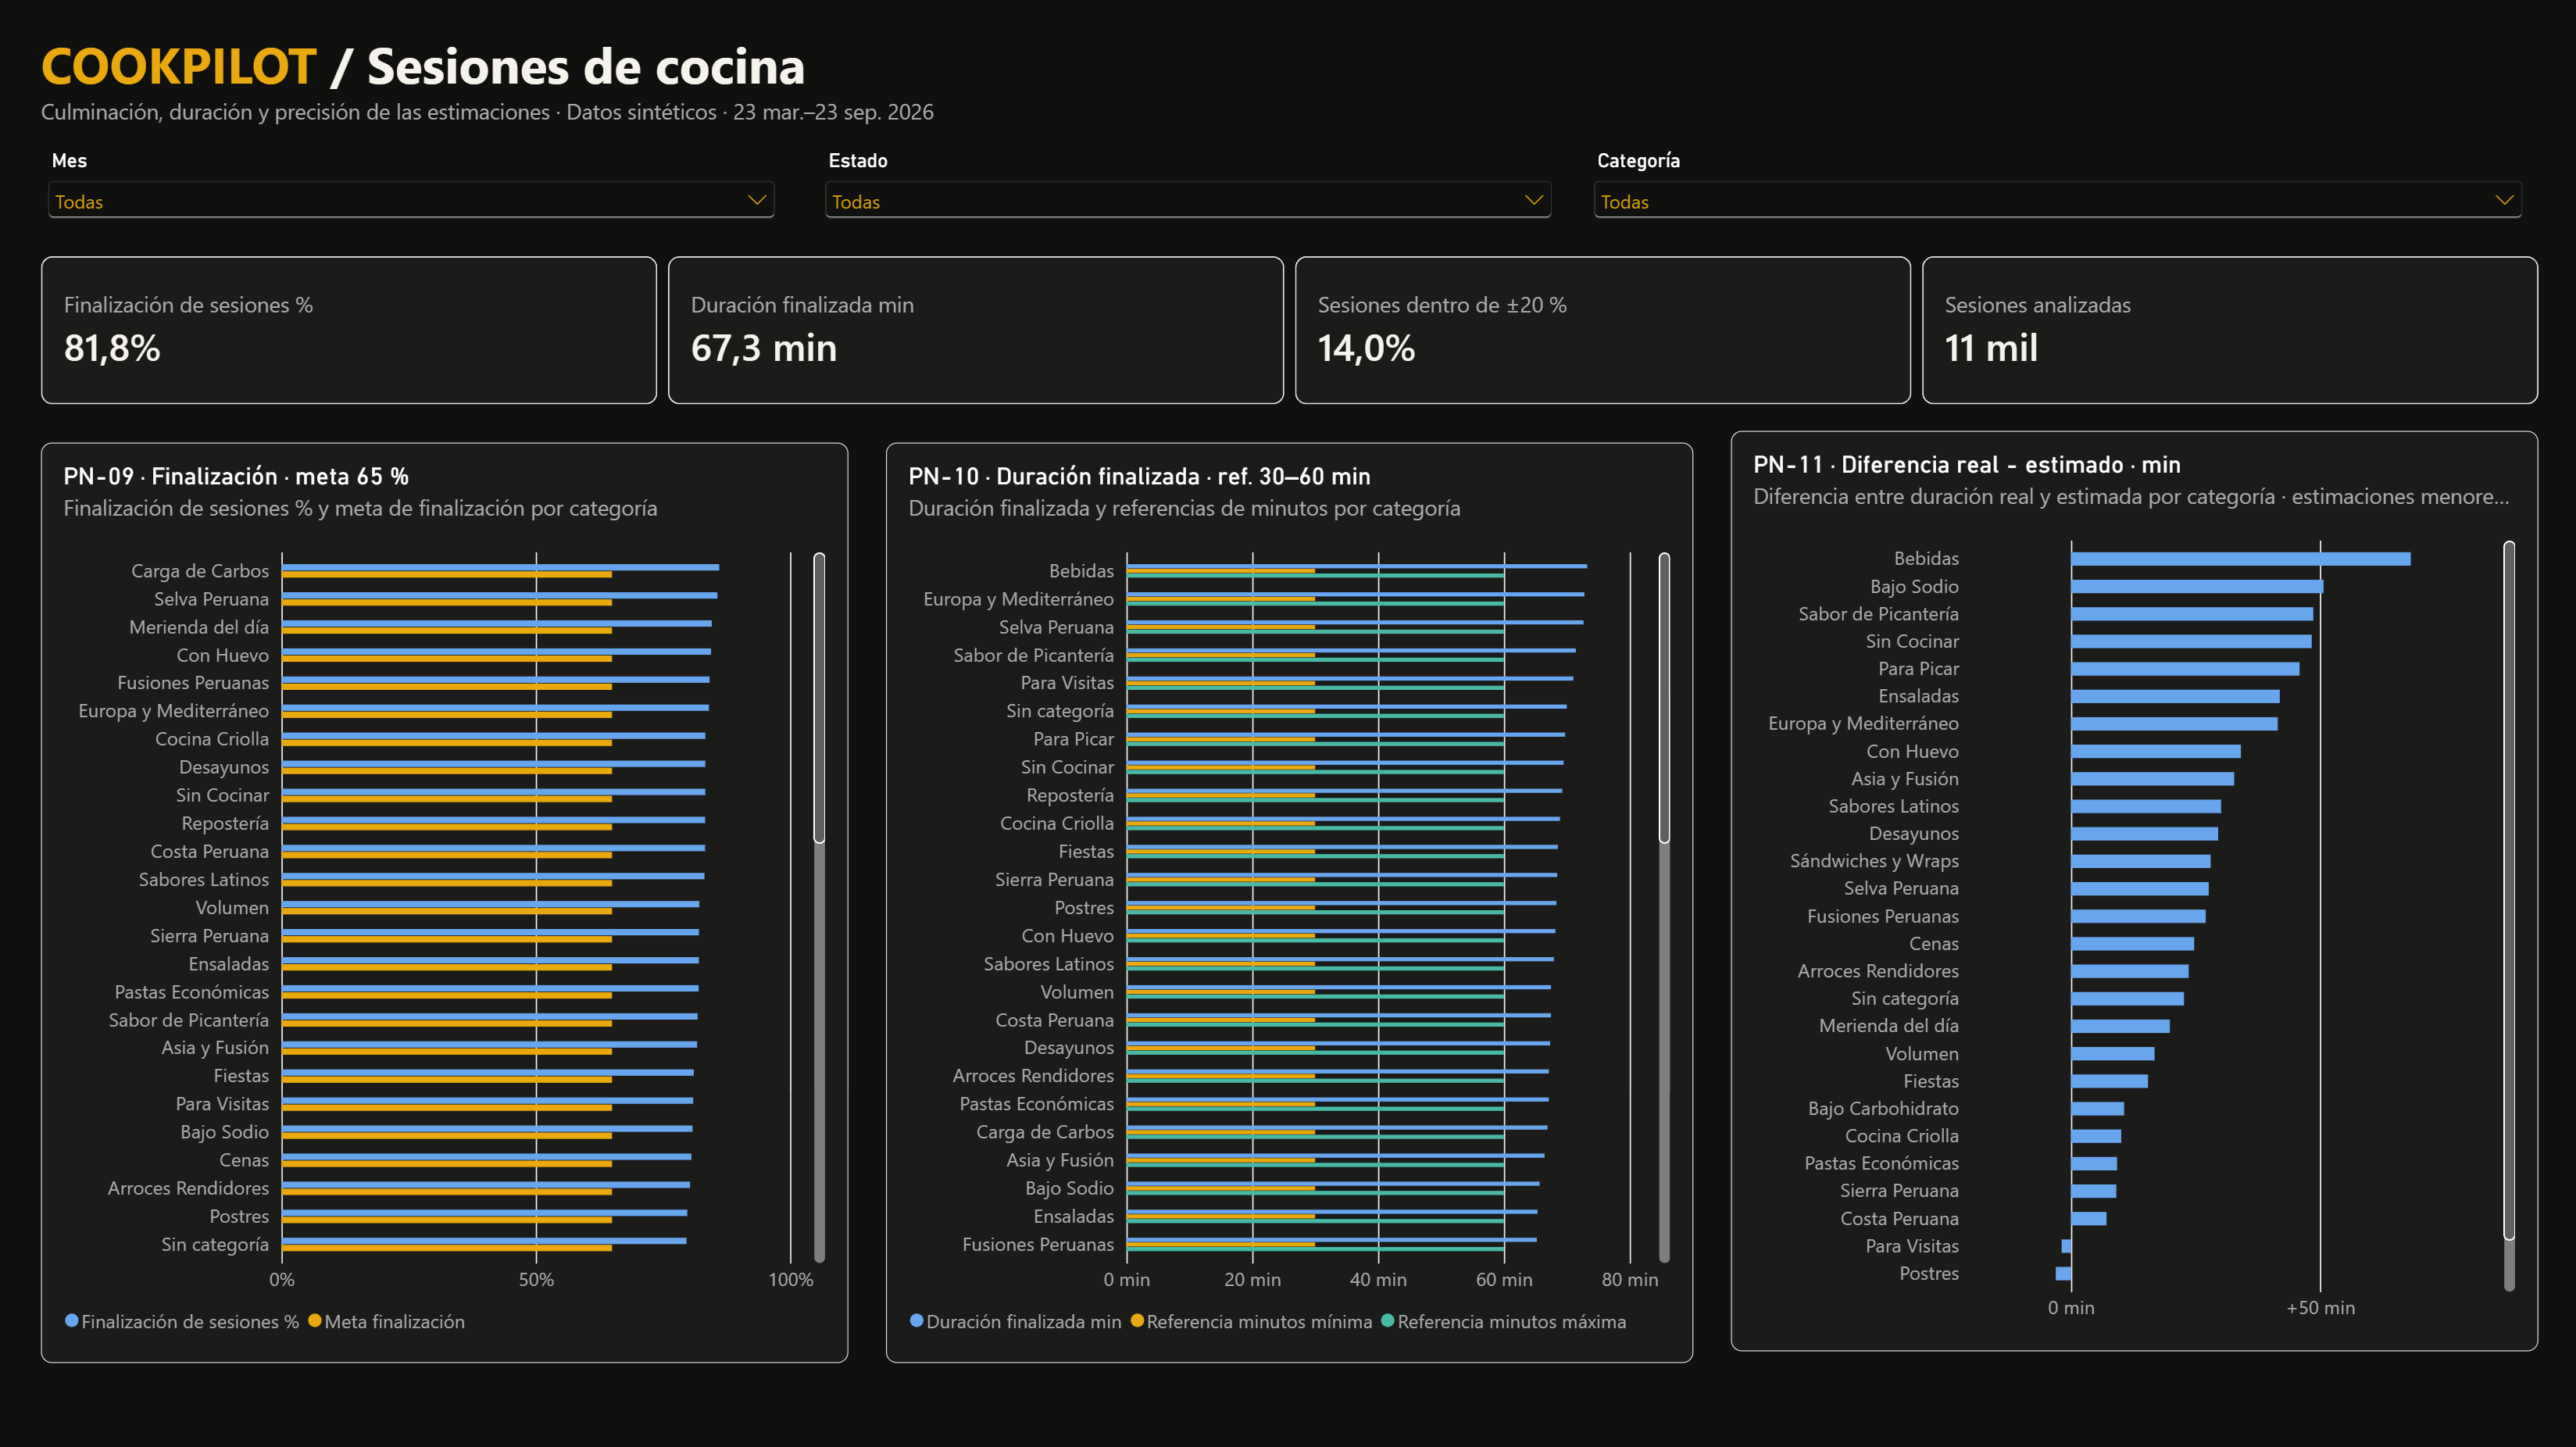

The page's visual inventory and layout, read from the dashboard file:
{"tool":"powerbi","page":{"name":"Sesiones de cocina","canvas":[1920,1080],"ordinal":2},"visuals":[{"type":"textbox","box":[32,23.8,1499.9,96.1],"z":0},{"type":"clusteredBarChart","title":"PN-09 · Finalización · meta 65 %","fields":{"Category":["dim_category.category_name"],"Y":["fact_cooking_session.Finalización de sesiones %","fact_planning.Meta finalización"]},"box":[32,330,600,684],"z":1},{"type":"clusteredBarChart","title":"PN-10 · Duración finalizada · ref. 30–60 min","fields":{"Category":["dim_category.category_name"],"Y":["fact_cooking_session.Duración finalizada min","fact_planning.Referencia minutos mínima","fact_planning.Referencia minutos máxima"]},"box":[660,330,600,684],"z":2},{"type":"clusteredBarChart","title":"PN-11 · Diferencia real − estimado · min","fields":{"Category":["dim_category.category_name"],"Y":["fact_cooking_session.Diferencia de tiempos min"]},"box":[1288,321.7,600,684],"z":3},{"type":"cardVisual","fields":{"Data":["fact_cooking_session.Finalización de sesiones %","fact_cooking_session.Duración finalizada min","fact_cooking_session.Sesiones dentro de ±20 %","fact_cooking_session.Sesiones analizadas"]},"box":[32,192,1856,110],"z":4},{"type":"slicer","fields":{"Values":["dim_date.month_name"]},"box":[32,112,550,65],"z":5},{"type":"slicer","fields":{"Values":["dim_session_status.status_code"]},"box":[610,112,550,65],"z":6},{"type":"slicer","fields":{"Values":["dim_category.category_name"]},"box":[1181,112,700,65],"z":7}]}

Visuals, with their boxes in screenshot pixels (x1, y1, x2, y2), scaled from the page's 1920x1080 canvas onto the 2576x1447 screenshot:
textbox: (43,32,2056,161)
"PN-09 · Finalización · meta 65 %" clusteredBarChart: (43,442,848,1359)
"PN-10 · Duración finalizada · ref. 30–60 min" clusteredBarChart: (885,442,1691,1359)
"PN-11 · Diferencia real − estimado · min" clusteredBarChart: (1728,431,2533,1348)
cardVisual - fact_cooking_session.Finalización de sesiones % x fact_cooking_session.Duración finalizada min: (43,257,2533,405)
slicer - dim_date.month_name: (43,150,781,238)
slicer - dim_session_status.status_code: (818,150,1556,238)
slicer - dim_category.category_name: (1585,150,2524,238)
